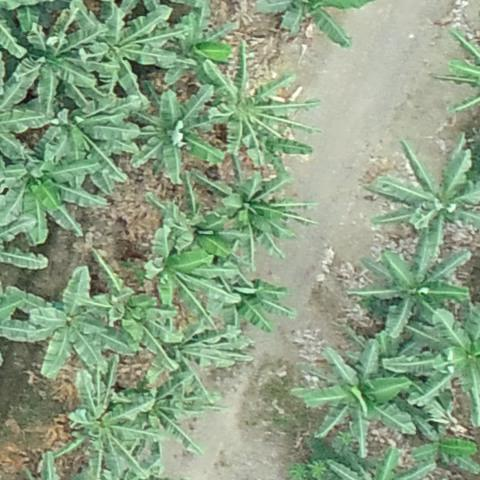Banana-plant: (367, 138, 480, 279), (292, 348, 420, 456), (347, 234, 469, 341), (189, 155, 310, 260), (55, 358, 158, 480), (0, 124, 104, 240), (203, 49, 316, 151), (380, 310, 480, 421), (58, 6, 181, 94), (0, 3, 93, 116), (27, 269, 117, 375), (132, 91, 228, 180), (130, 249, 239, 324), (147, 318, 245, 399)
